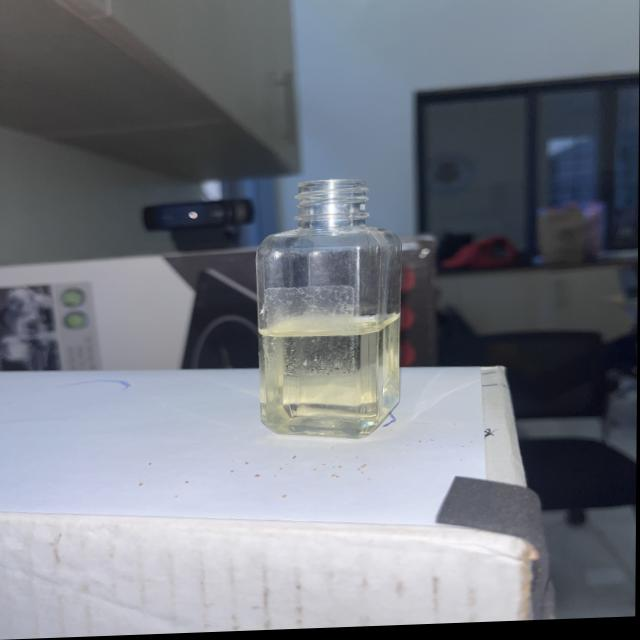oil: (260, 318, 401, 440)
